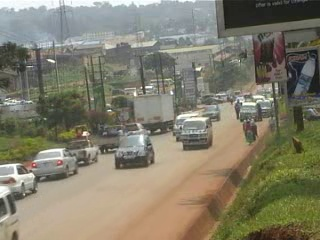Car: (29, 145, 81, 183), (111, 131, 160, 168), (0, 160, 40, 202), (119, 120, 154, 137), (200, 103, 222, 122), (230, 96, 248, 107)
